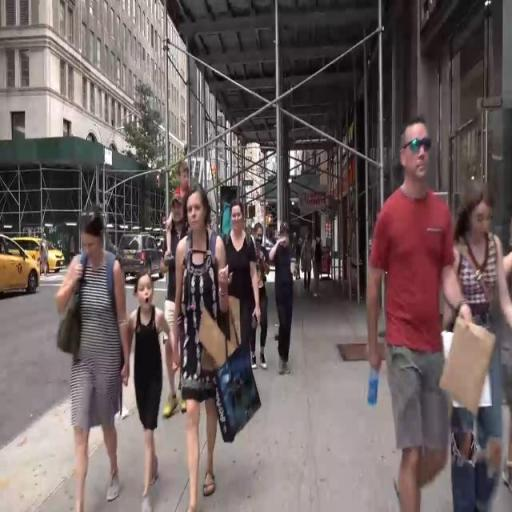person: (365, 123, 452, 512), (59, 210, 131, 510), (185, 202, 251, 512), (448, 177, 508, 512), (133, 273, 175, 512), (276, 220, 308, 388), (254, 221, 276, 381), (313, 235, 326, 311), (303, 231, 311, 301)
